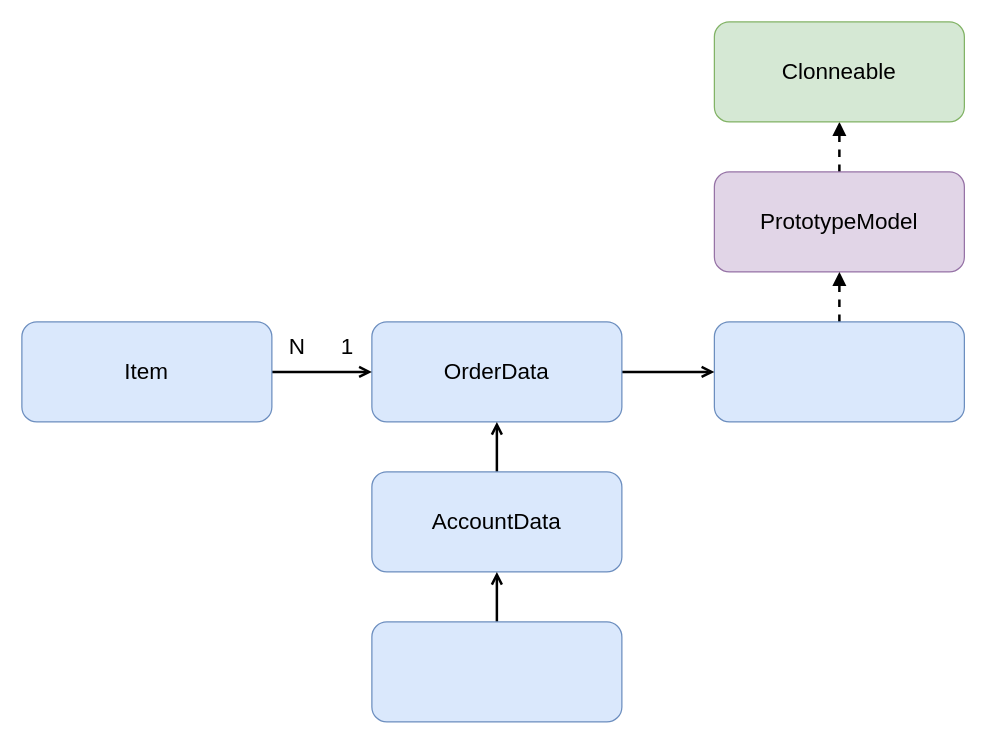
Image size: 986x744. Some labels were removed from this diagram. The shapes that lost their labels are listed below. From the top down, each one's centre as x and y in pixels, then its label:
At [838,371]: "OrderRecipe".
At [496,671]: "ShipmentData".
